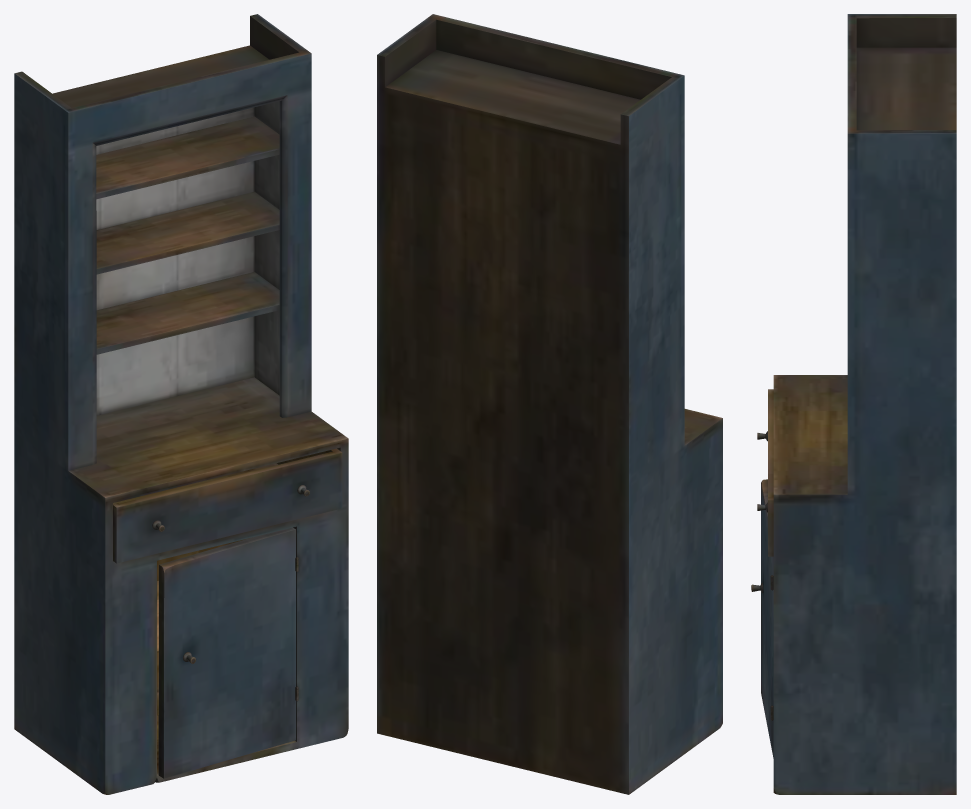
File: ph_painted_wooden_cabinet_02.glb
The picture shows the model from 3 angles, left to right: view 1: azimuth 30°, elevation 25°; view 2: azimuth 150°, elevation 25°; view 3: azimuth 270°, elevation 25°; orthographic projection. The views are drawn at different scales.
Parts seen in each view (by area): view 1: painted_wooden_cabinet_02, painted_wooden_cabinet_02_door, painted_wooden_cabinet_02_drawer; view 2: painted_wooden_cabinet_02; view 3: painted_wooden_cabinet_02, painted_wooden_cabinet_02_door, painted_wooden_cabinet_02_drawer.
Part boxes in pixels (left/top/right/bottom): painted_wooden_cabinet_02: left=14, top=14, right=348, bottom=794; painted_wooden_cabinet_02_door: left=158, top=527, right=295, bottom=778; painted_wooden_cabinet_02_drawer: left=113, top=448, right=342, bottom=563; painted_wooden_cabinet_02: left=377, top=14, right=722, bottom=794; painted_wooden_cabinet_02: left=770, top=14, right=956, bottom=794; painted_wooden_cabinet_02_door: left=751, top=479, right=773, bottom=758; painted_wooden_cabinet_02_drawer: left=757, top=389, right=773, bottom=556.
Size of the model in its own units: 0.9969 by 2.57 by 0.7223.
Materials: 1 (1 with a texture image).
